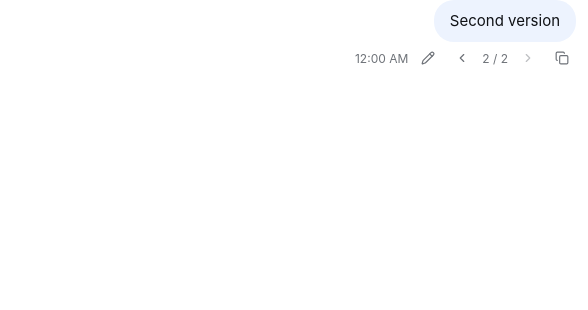
Scenario: user message versions › closes the editor only after an accepted edit
The image size is (588, 310).
Click the button named "Edit message". click: (428, 58)
box: top-left (414, 44), bottom-right (442, 72)
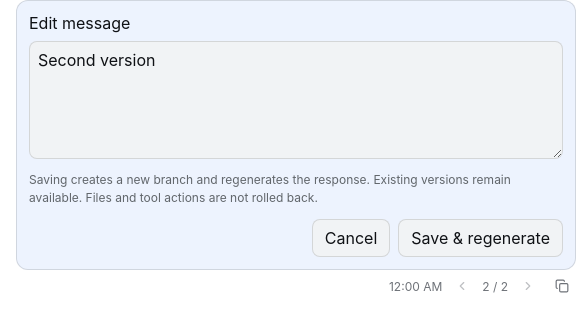
Submit the form
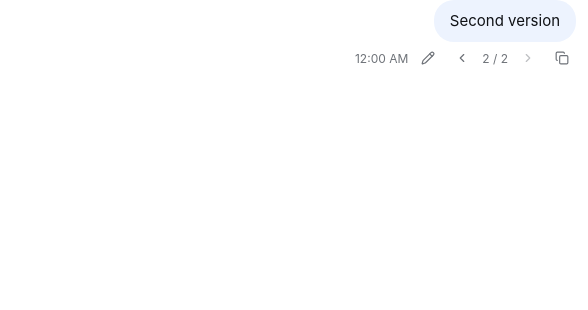
Result: the text box is gone
